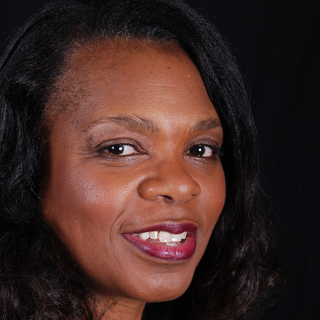eye: (88, 134, 154, 169), (174, 134, 221, 165)
